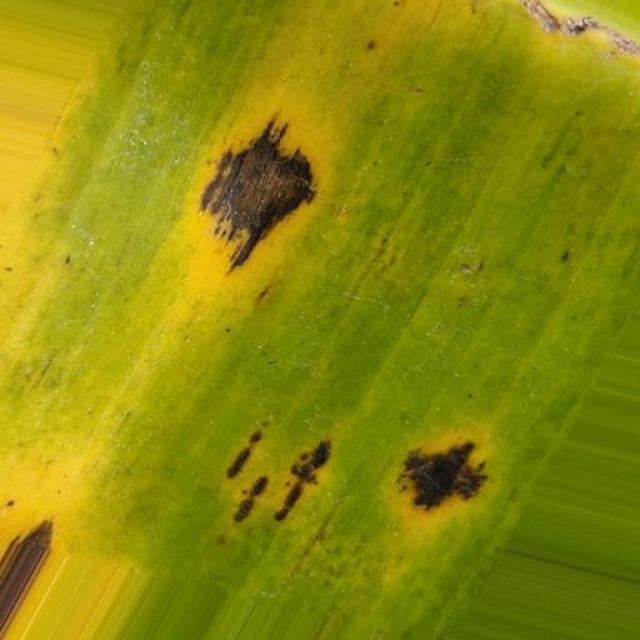Early_rust: (204, 368, 578, 561), (150, 100, 376, 288), (514, 0, 640, 113)
